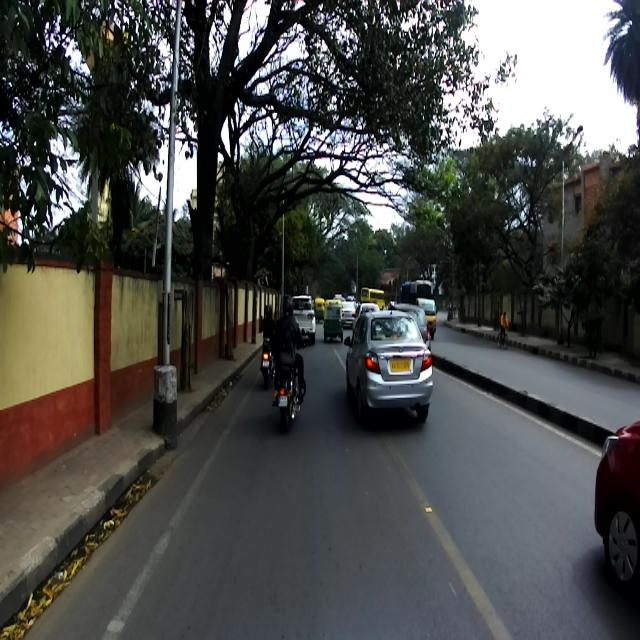car: (342, 308, 433, 426), (288, 293, 316, 343)
motorcycle: (272, 327, 306, 432)
